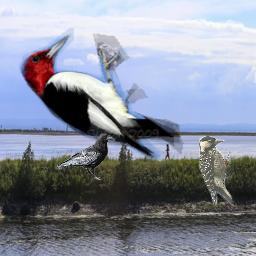Crow: (55, 133, 115, 180)
Woodpecker: (3, 28, 188, 167), (199, 136, 235, 206)
